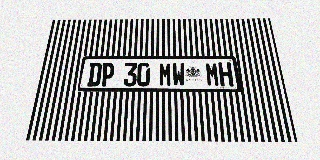0: (137, 62, 150, 86)
3: (123, 63, 137, 86)
D: (87, 63, 102, 86)
H: (218, 62, 234, 86)
M: (205, 62, 220, 86), (159, 62, 172, 86)
P: (100, 63, 115, 86)
W: (172, 62, 185, 86)
